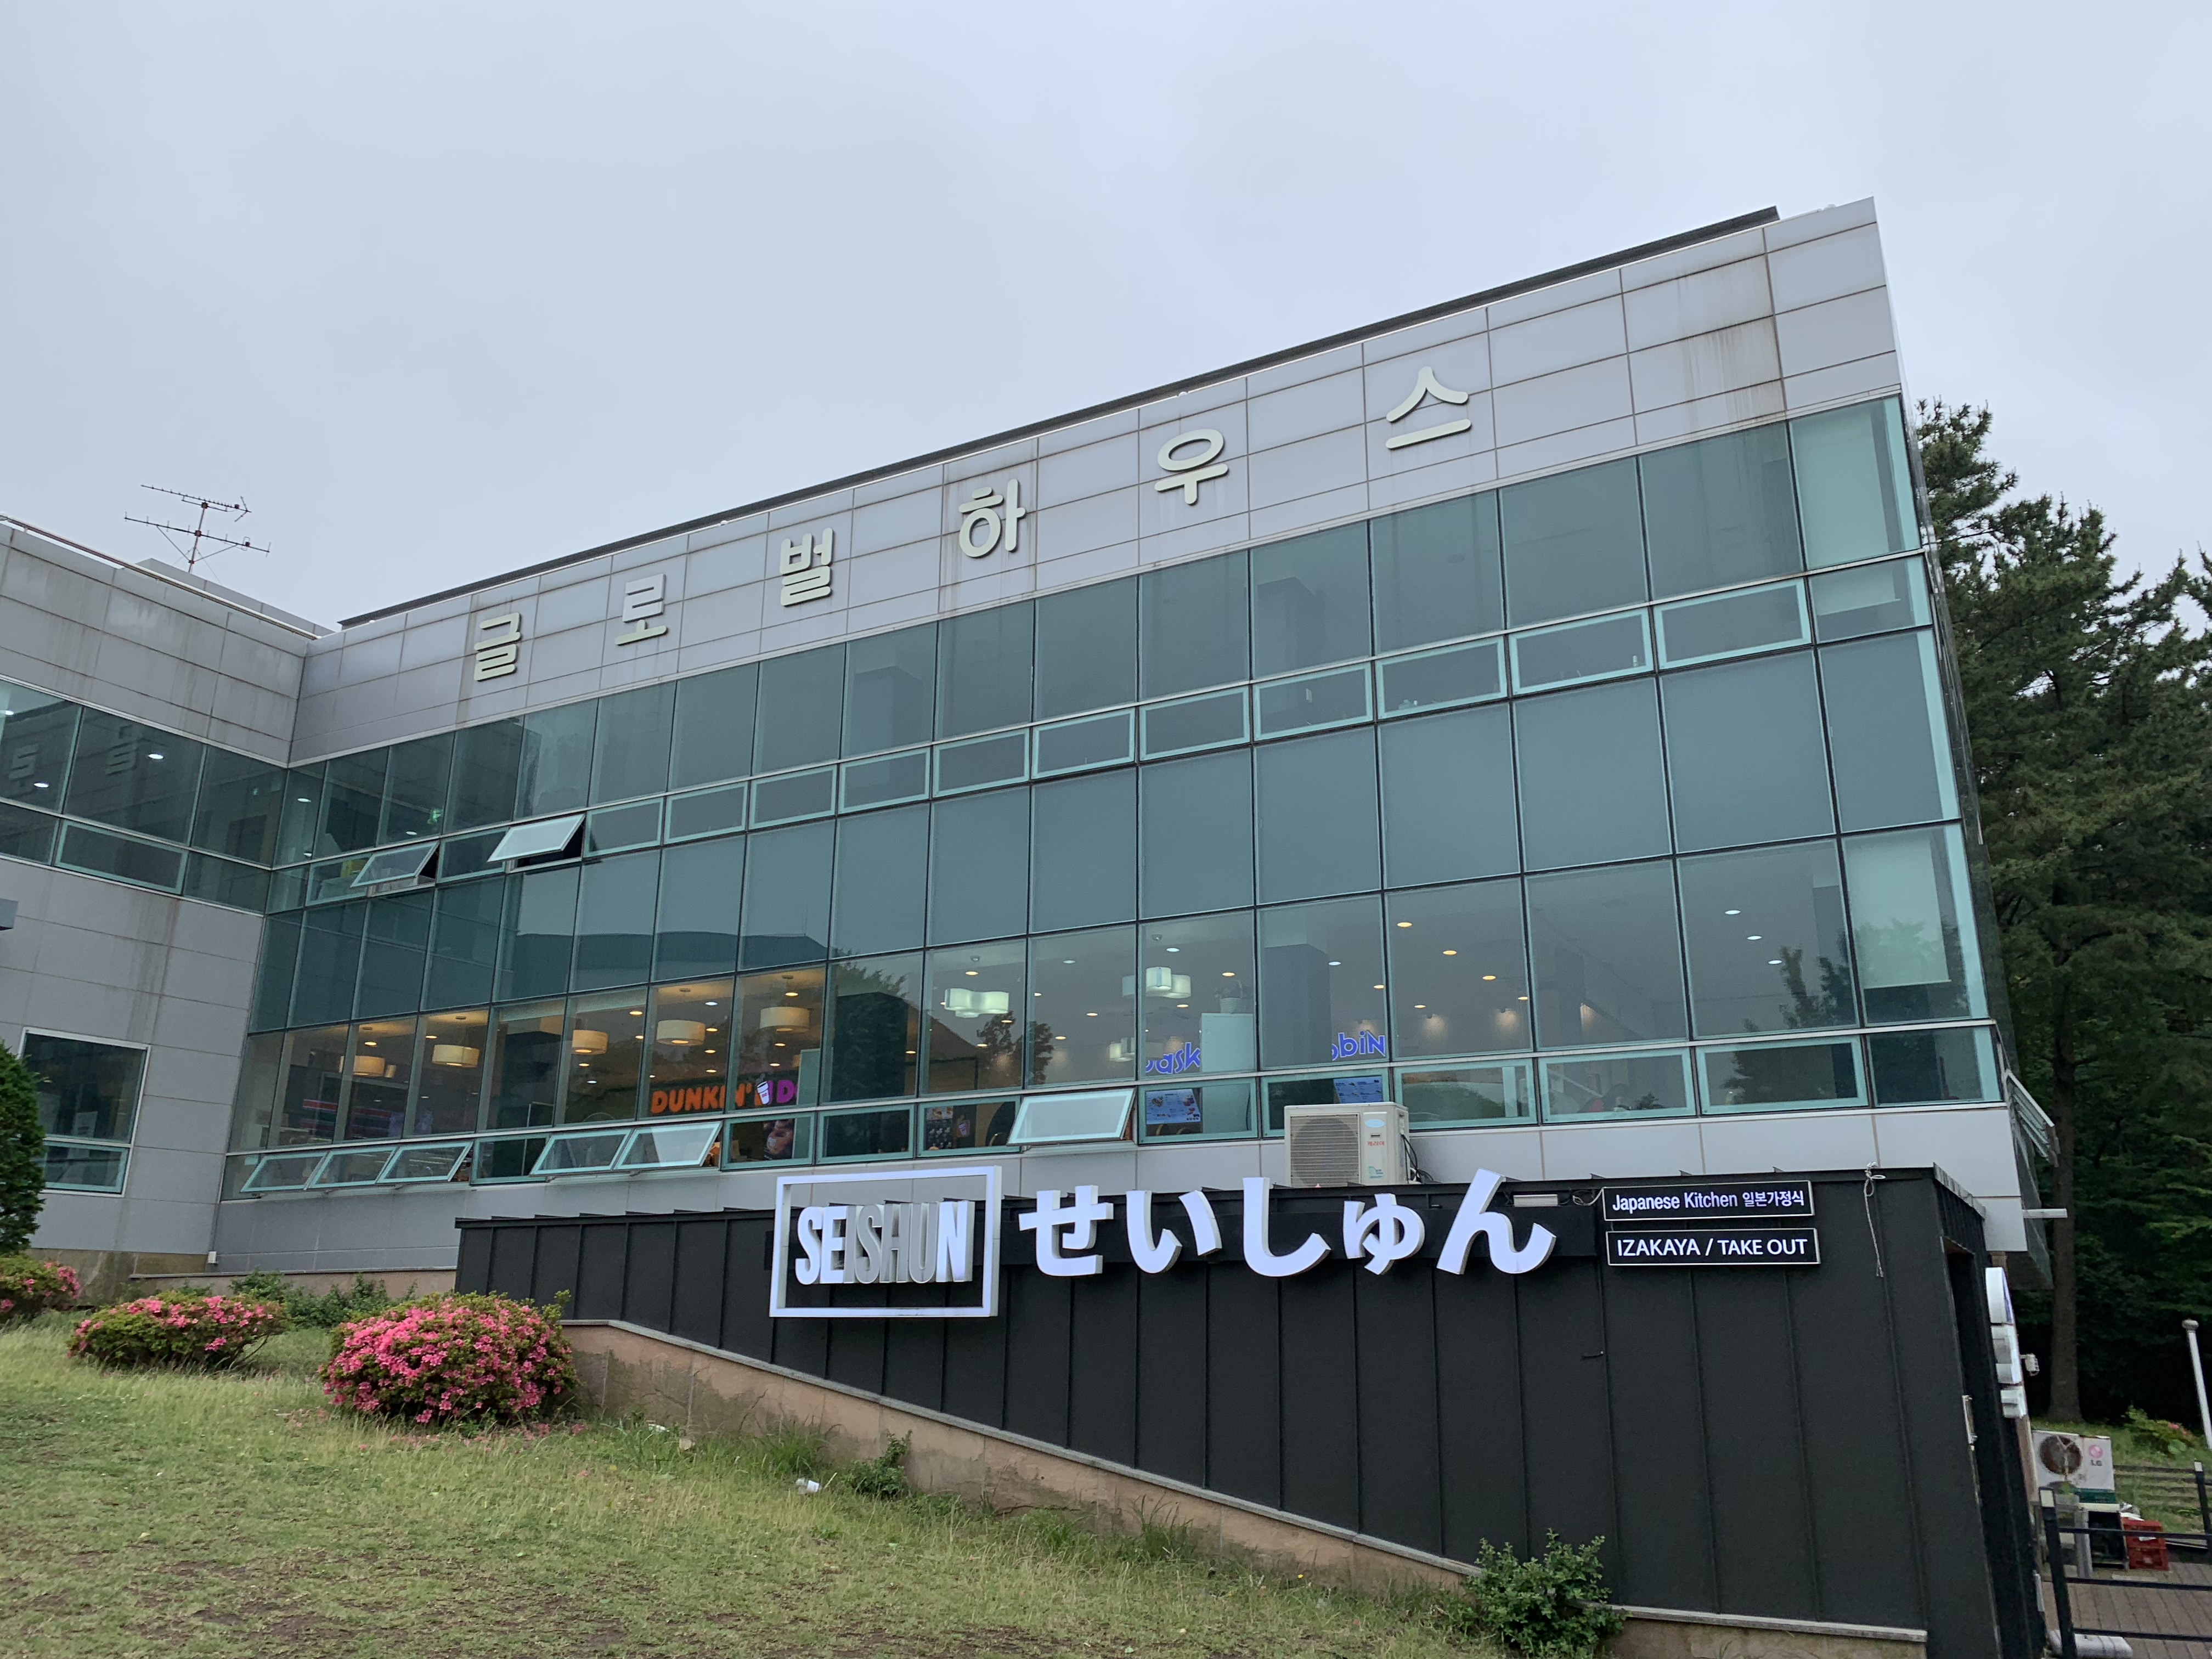Global House: (270, 382, 1980, 1530)
